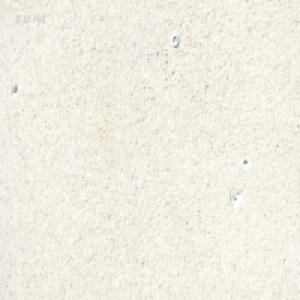Washer: (171, 33, 178, 47)
